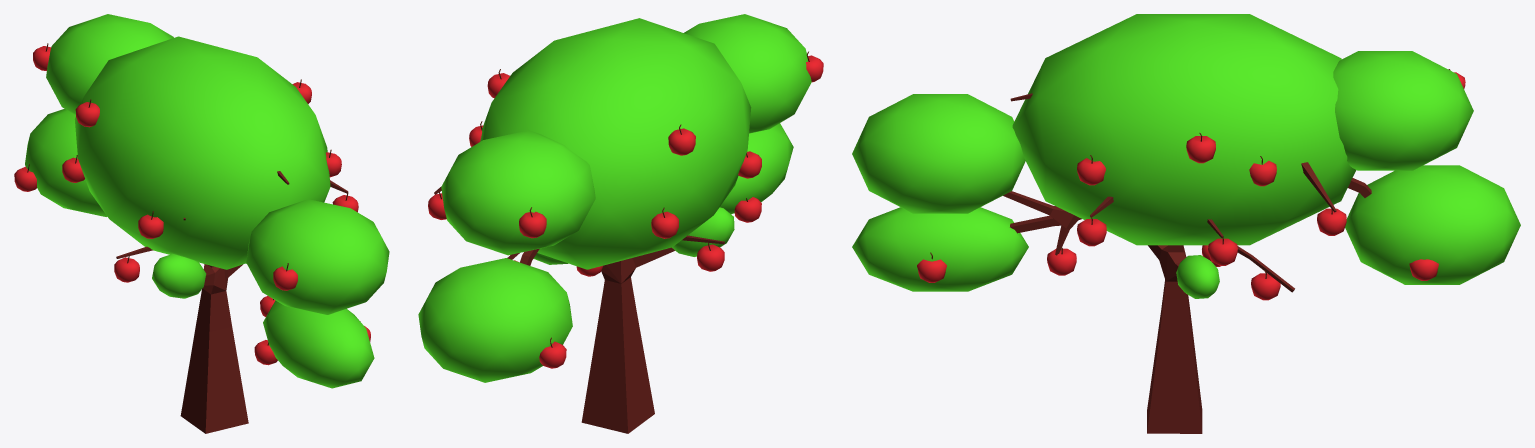
Rendered from Apple_Tree.fbx.
The picture shows the model from 3 angles, left to right: view 1: azimuth 30°, elevation 25°; view 2: azimuth 150°, elevation 25°; view 3: azimuth 270°, elevation 25°; orthographic projection. The views are drawn at different scales.
Parts seen in each view (by area): view 1: Apple_Tree; view 2: Apple_Tree; view 3: Apple_Tree.
Boxes of the visible parts, x1,y1,x2,y2 form: Apple_Tree: (14,14,389,433); Apple_Tree: (418,14,823,433); Apple_Tree: (852,14,1520,433).
Size of the model in its own units: 4.71 by 7.53 by 11.47.
